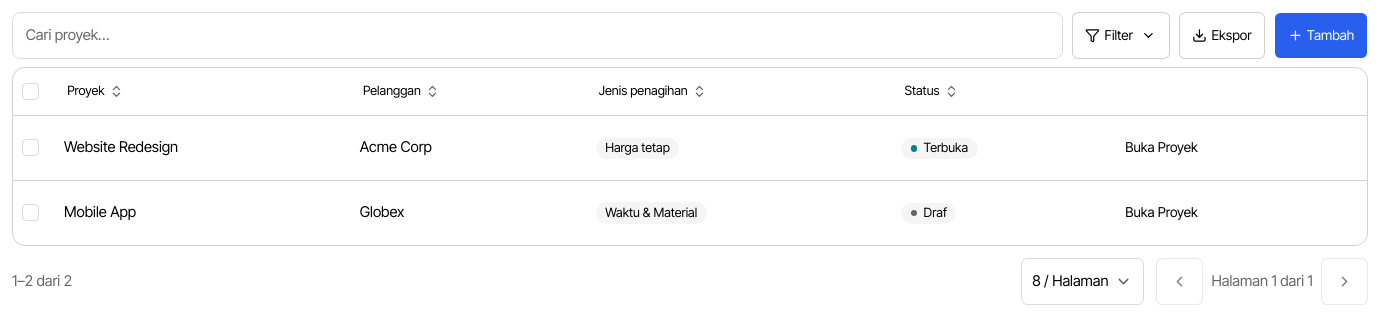
ProjectsSection › filters projects by search
Expected: the button "Website Redesign" is shown, [64,137,178,159]
Step 1. Type "Mobile" into the search field with placeholder "Cari proyek…" → (538, 35), box [12,12,1063,59]
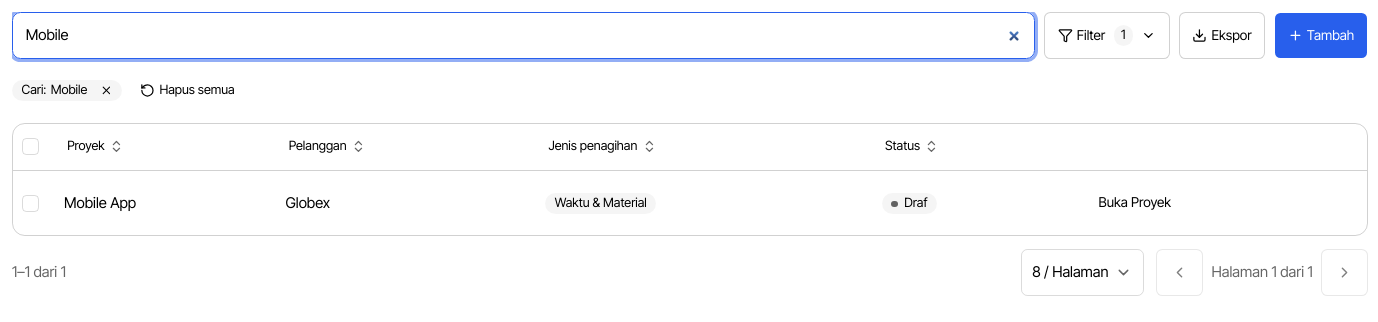
Expected: the button "Mobile App" is shown, [64,192,136,214]
Now the button "Website Redesign" is gone
